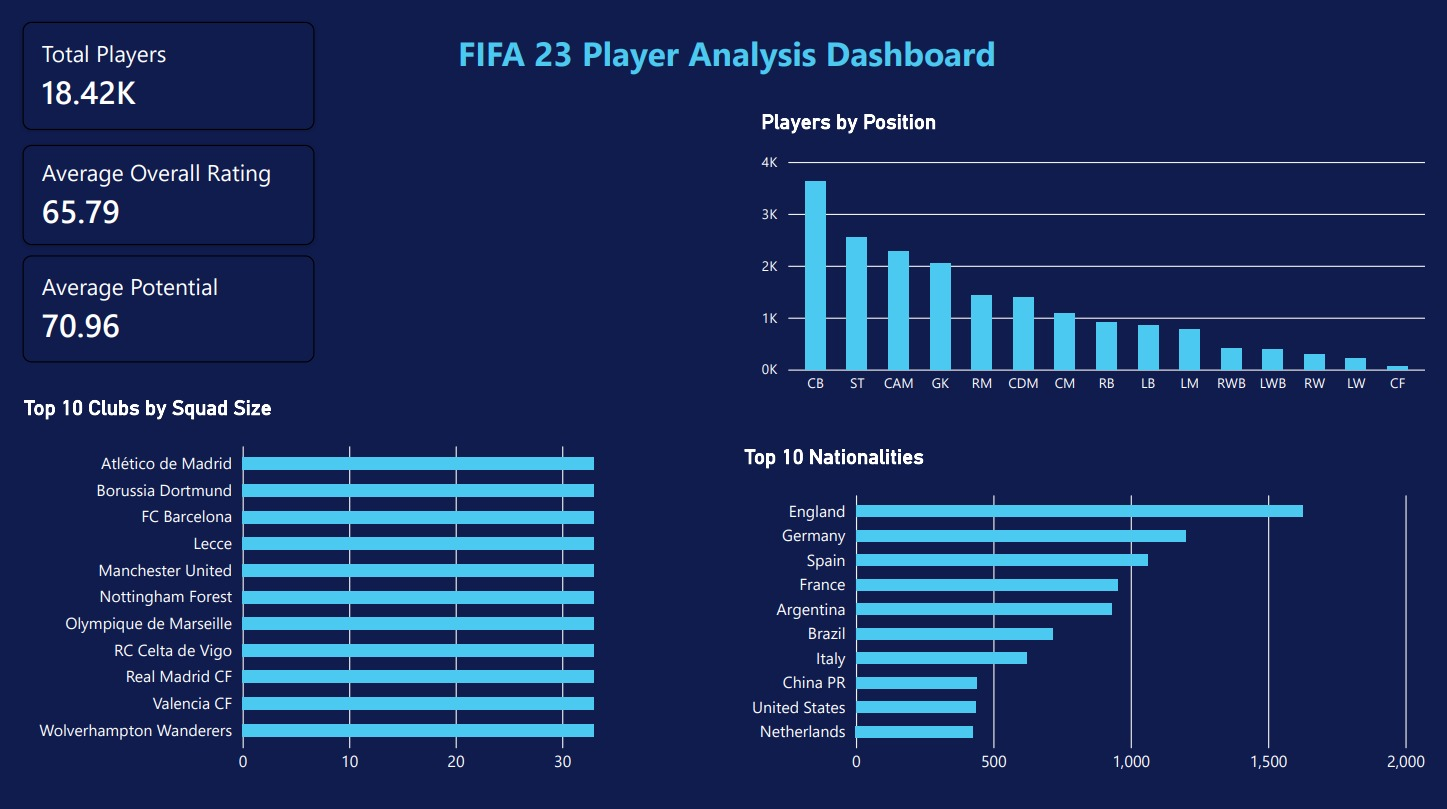

Layout of this report page (visuals, bound fields, positions):
{"tool":"powerbi","page":{"name":"Page 1","canvas":[1280,720],"ordinal":0},"visuals":[{"type":"cardVisual","fields":{"Data":["CountNonNull(FIFA23_Cleaned.Full Name)"]},"box":[22.5,25,256.2,95],"z":0},{"type":"cardVisual","fields":{"Data":["Avg(FIFA23_Cleaned.Overall)"]},"box":[22.5,132.5,256.2,88.8],"z":1000},{"type":"cardVisual","fields":{"Data":["Avg(FIFA23_Cleaned.Potential)"]},"box":[22.6,229.8,256.2,93.8],"z":2000},{"type":"clusteredColumnChart","title":"Players by Position","fields":{"Category":["FIFA23_Cleaned.Best Position"],"Y":["CountNonNull(FIFA23_Cleaned.Full Name)"]},"box":[655.4,88,613.3,283.1],"z":3000},{"type":"clusteredBarChart","title":"Top 10 Clubs by Squad Size","fields":{"Category":["FIFA23_Cleaned.Club Name"],"Y":["CountNonNull(FIFA23_Cleaned.Full Name)"]},"box":[8.4,338.6,559,366.3],"z":4000},{"type":"clusteredBarChart","title":" Top 10 Nationalities  ","fields":{"Category":["FIFA23_Cleaned.Nationality"],"Y":["CountNonNull(FIFA23_Cleaned.Full Name)"]},"box":[639.8,381.9,628.9,322.9],"z":5000},{"type":"shape","box":[373.8,14.3,534.5,73.8],"z":6000}]}

Visuals, with their boxes in screenshot pixels (x1, y1, x2, y2), scaled from the page's 1280x720 canvas onto the 1447x809 screenshot:
cardVisual - CountNonNull(FIFA23_Cleaned.Full Name): [left=25, top=28, right=315, bottom=135]
cardVisual - Avg(FIFA23_Cleaned.Overall): [left=25, top=149, right=315, bottom=249]
cardVisual - Avg(FIFA23_Cleaned.Potential): [left=26, top=258, right=315, bottom=364]
"Players by Position" clusteredColumnChart: [left=741, top=99, right=1434, bottom=417]
"Top 10 Clubs by Squad Size" clusteredBarChart: [left=9, top=380, right=641, bottom=792]
" Top 10 Nationalities  " clusteredBarChart: [left=723, top=429, right=1434, bottom=792]
shape: [left=423, top=16, right=1027, bottom=99]
